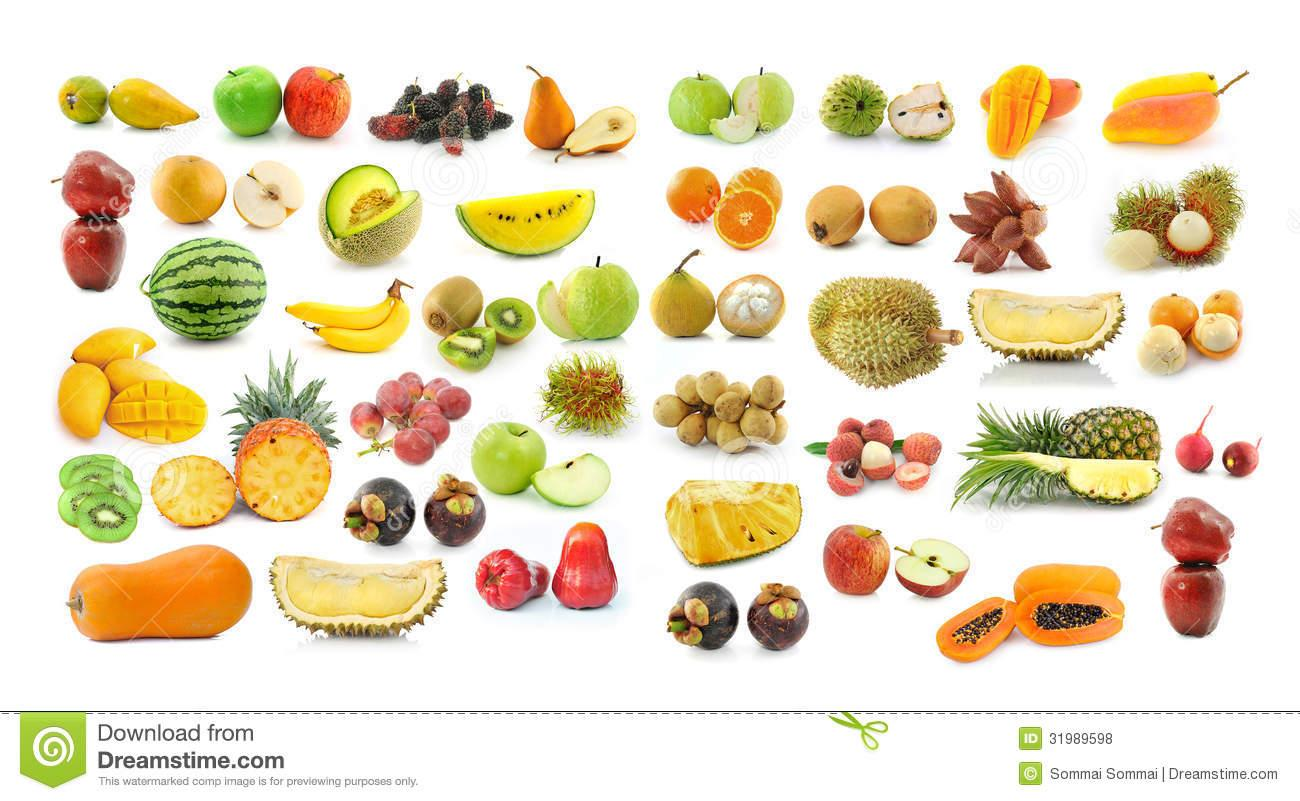chom_chom: (805, 274, 952, 391)
chuoi: (284, 282, 415, 352)
dua_hau: (143, 236, 268, 340)
mang_cut: (667, 577, 811, 655), (337, 470, 419, 552), (427, 458, 483, 549)
xoai: (61, 360, 110, 439)
